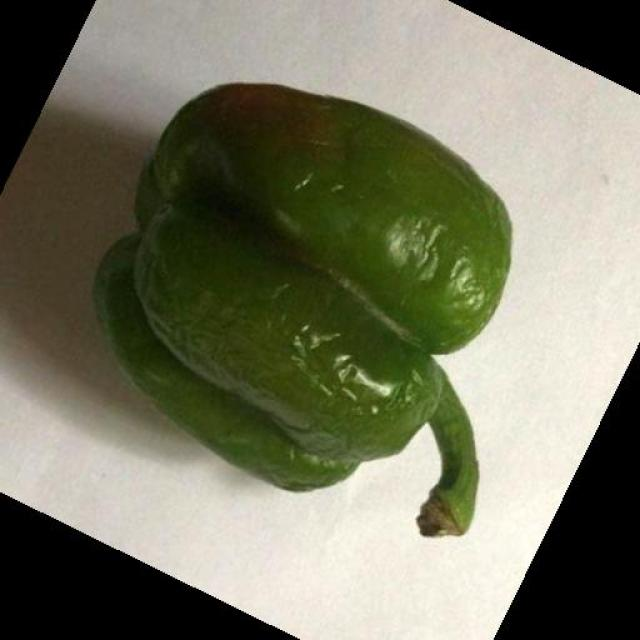Stale_Capsicum: (134, 71, 487, 505)
